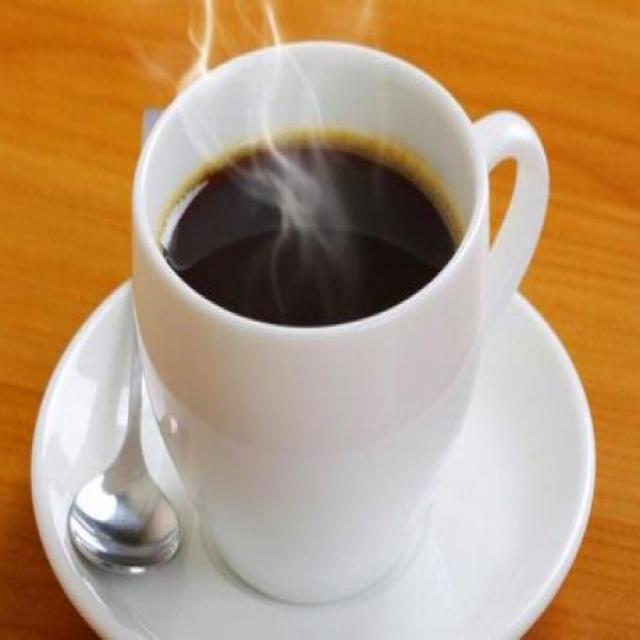kopi hitam: (129, 42, 490, 600)
